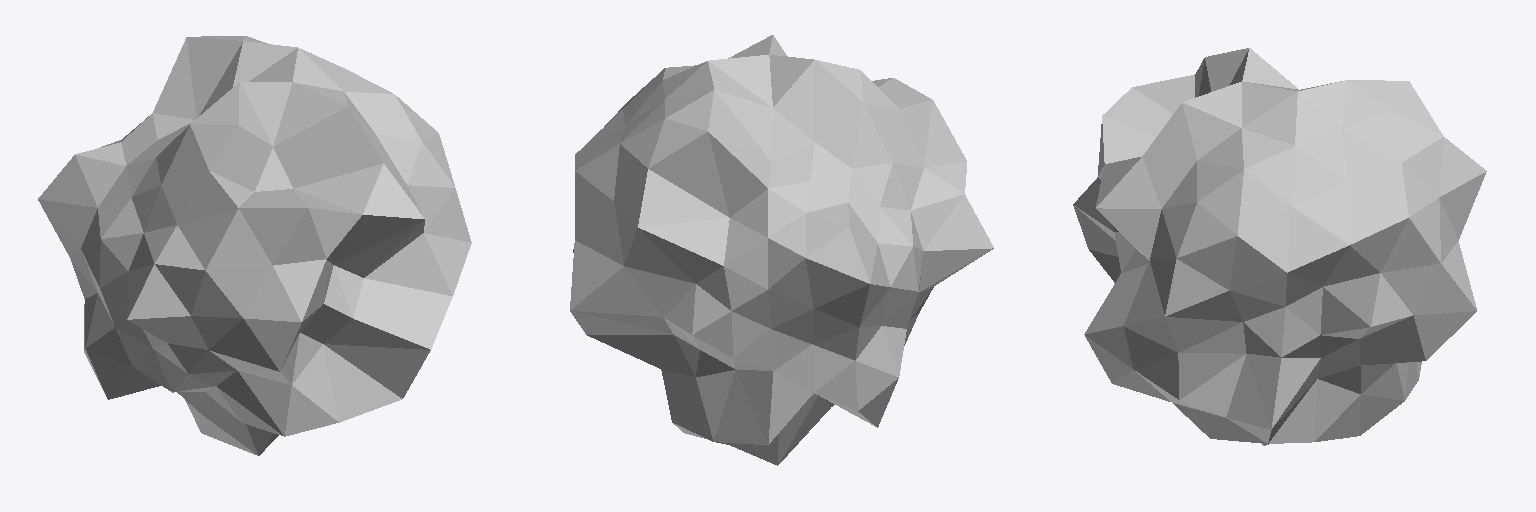
Rendered from asteroid1_collider.obj.
3 views of the same model, side by side, from view 1: azimuth 30°, elevation 25°; view 2: azimuth 150°, elevation 25°; view 3: azimuth 270°, elevation 25° (orthographic).
Visible parts, largest first — view 1: Collider1; view 2: Collider1; view 3: Collider1.
Part boxes in pixels (x1,y1,x2,y2): Collider1: (38,36,471,455); Collider1: (570,35,993,465); Collider1: (1073,48,1486,445).
Size of the model in its own units: 1.95 by 2.02 by 1.96.